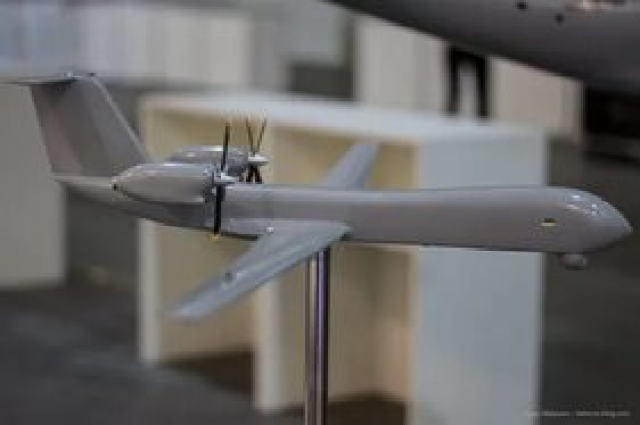military drone: (0, 70, 634, 325)
